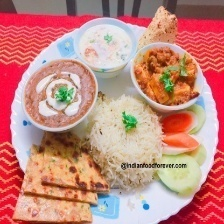rice: (84, 96, 162, 191)
